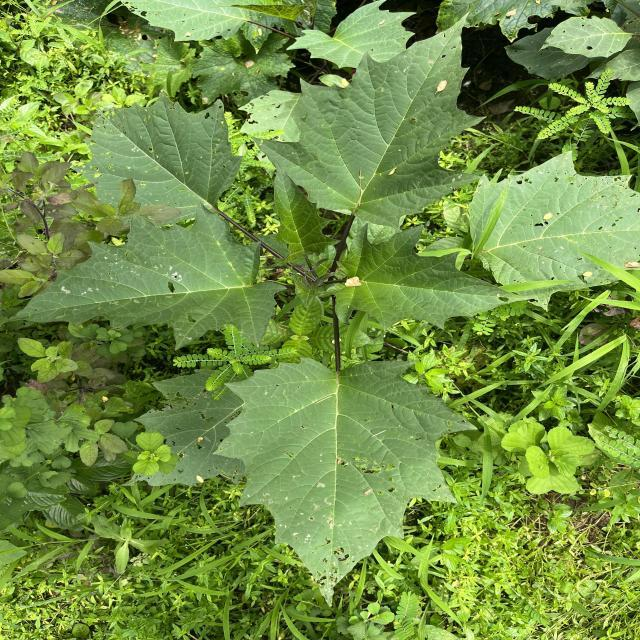Datura metal linn: (205, 353, 488, 610), (246, 8, 488, 234), (0, 210, 291, 354), (466, 148, 640, 314), (68, 88, 251, 227), (316, 221, 538, 333), (269, 156, 343, 264)
